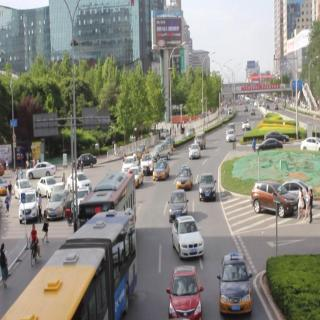BigCar: (8, 212, 142, 320), (76, 169, 134, 216)
Car: (219, 249, 254, 318), (166, 264, 202, 319), (251, 180, 297, 218), (171, 216, 204, 257), (198, 170, 220, 202), (46, 190, 69, 218), (168, 189, 188, 216), (20, 192, 39, 220), (176, 162, 195, 189), (67, 172, 91, 192), (26, 160, 54, 177), (153, 159, 170, 183), (71, 152, 96, 167), (256, 137, 281, 152), (302, 135, 319, 157), (187, 144, 202, 160), (226, 128, 236, 142)
